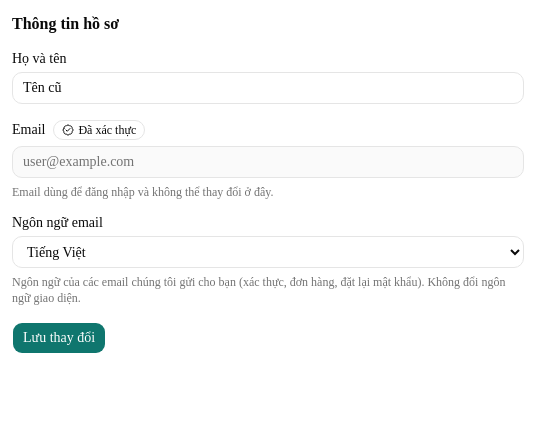
Test case: ProfileFormContainer › lưu lỗi -> câu chung đã dịch (không in message BE), store giữ user cũ, không toast thành công
In the field labelled "Họ và tên": (268, 88) [12,72,524,104], type " sửa"
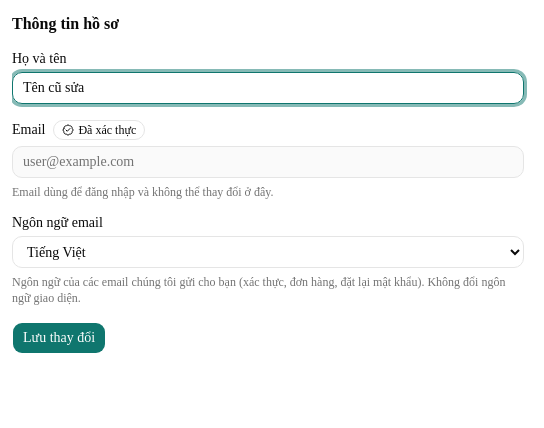
Click the button "Lưu thay đổi": (59, 338) [12,322,106,354]
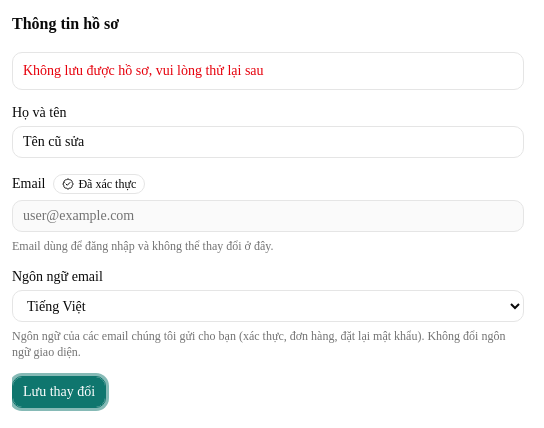
Check: the message shows "Không lưu được hồ sơ", box [23,63,264,78]
